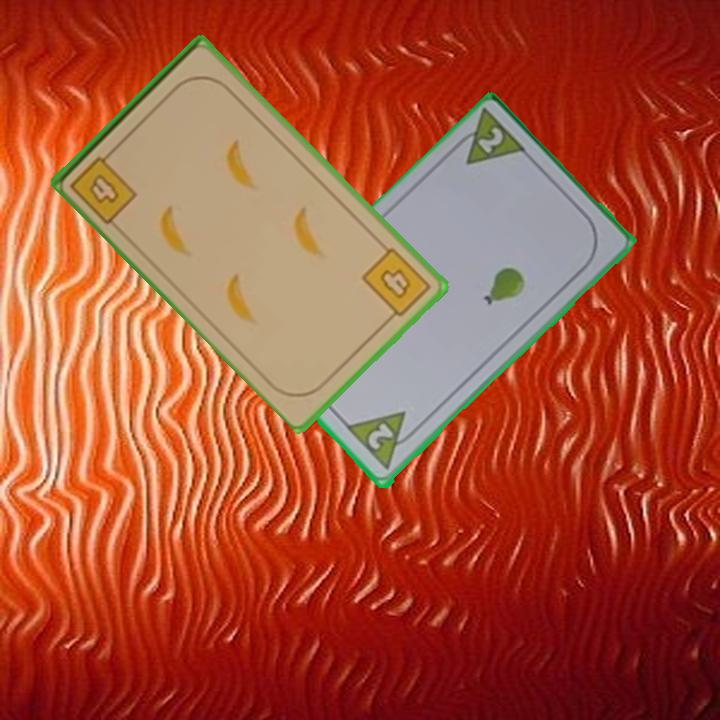2p: (447, 106, 531, 169), (364, 420, 397, 454)
4b: (358, 243, 434, 325), (66, 144, 141, 227)
